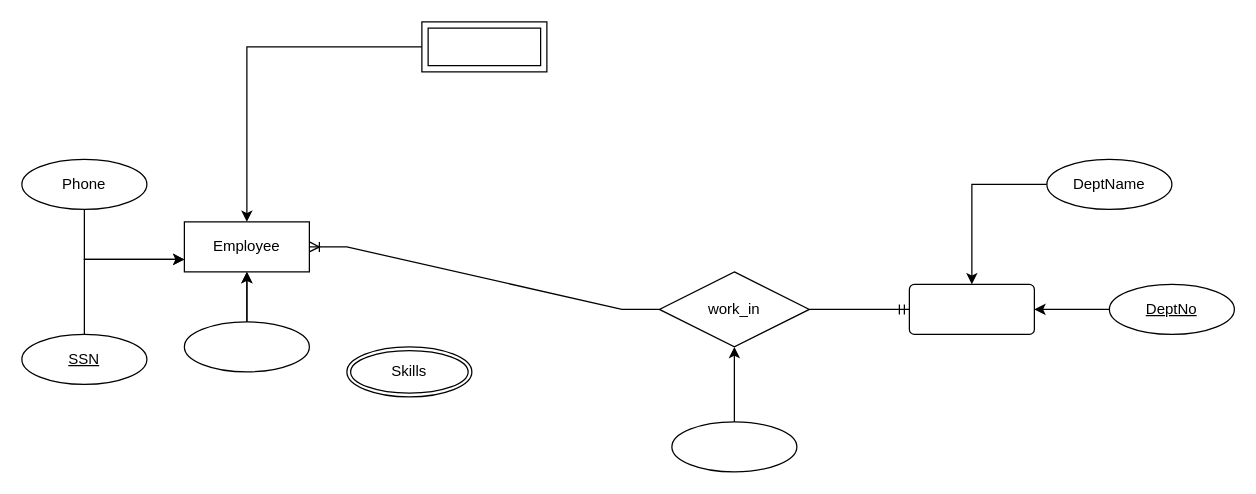
Some shapes in this 1256 by 494 pixel diagram are drawn without their labels. Here are the shapes that lost their labels. From the top down, the centre of each, then its label:
pixel 484 46: children of employees
pixel 971 308: Department
pixel 246 346: Salary
pixel 734 446: DeptNum
